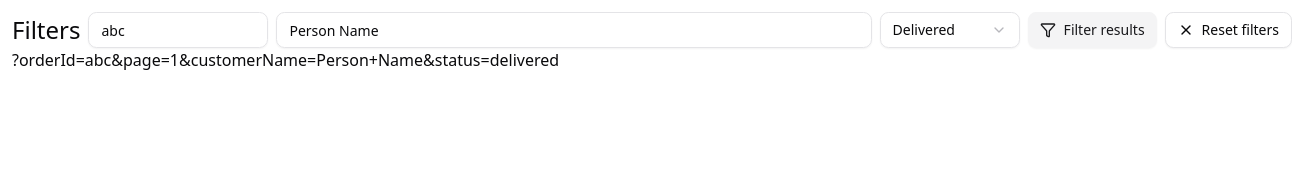
Scenario: OrderTableFilter component › should clear the search params with clear button
The image size is (1304, 172).
Click the button "Reset filters".
click(1228, 30)  # box [1165,12,1292,48]
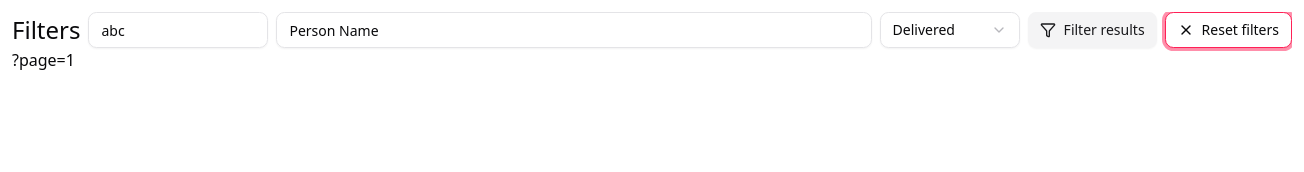
Expected: the text with test id "location-display" no longer shows "customerName=Person+Name", [12,49,75,71]
Expected: the text with test id "location-display" no longer shows "orderId=abc", [12,49,75,71]
